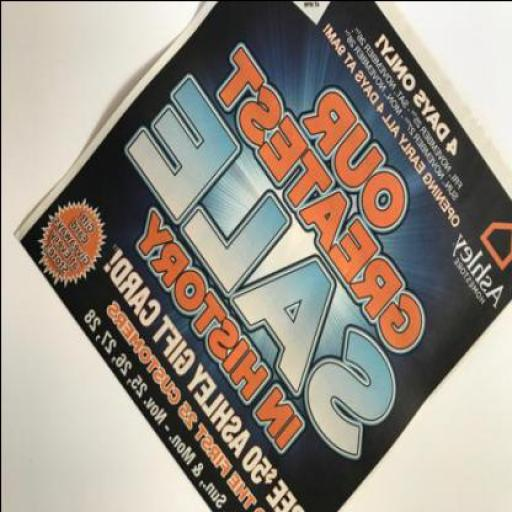paper: (14, 1, 510, 512)
